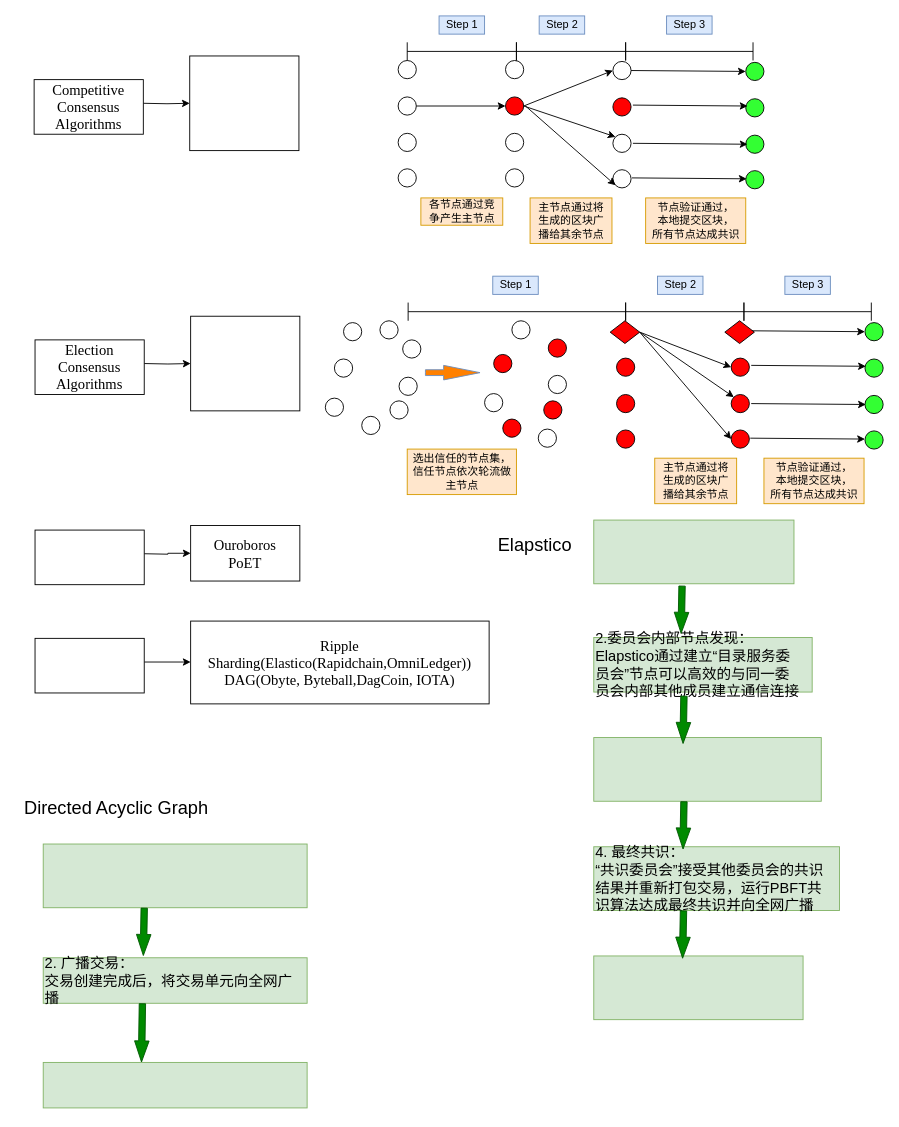
Image size: 899x1127. Some labels were removed from this diagram. The shapes that lost their labels are listed below. From the top down, each one's centre as x and y in pixels, then its label:
At point (244, 103): "PoW PoS PoA PoC PoR".
At point (245, 363): "DPoS PBFT DBFT(Neo)".
At point (89, 557): "Stochastic Consensus Algorithms".
At point (693, 551): "1. 身份获取和委员会分配： 每个节点产生一个身份信息， 随后根据身份信息将节点划分 到不同的委员会".
At point (89, 665): "Other Consensus Algorithms".
At point (707, 769): "3. 委员会内部共识： 委员会内部运行PBFT共识算法对 交易集达成共识，将共识结果发 送到“共识委员会”".
At point (174, 875): "1. 创建交易： 用户需要交易时，创建一个交易单元， 包括：消息类型、签名以及一个或多 个之前交易单元的哈希值".
At point (698, 987): "5. 产生随机数： “共识委员会”产生一组随机数， 用于下一周期中节点重新构建 身份信息".
At point (174, 1085): "3. 验证交易： 其他节点接收交易，之后发起交易时会 选择验证当前交易是否有效".
